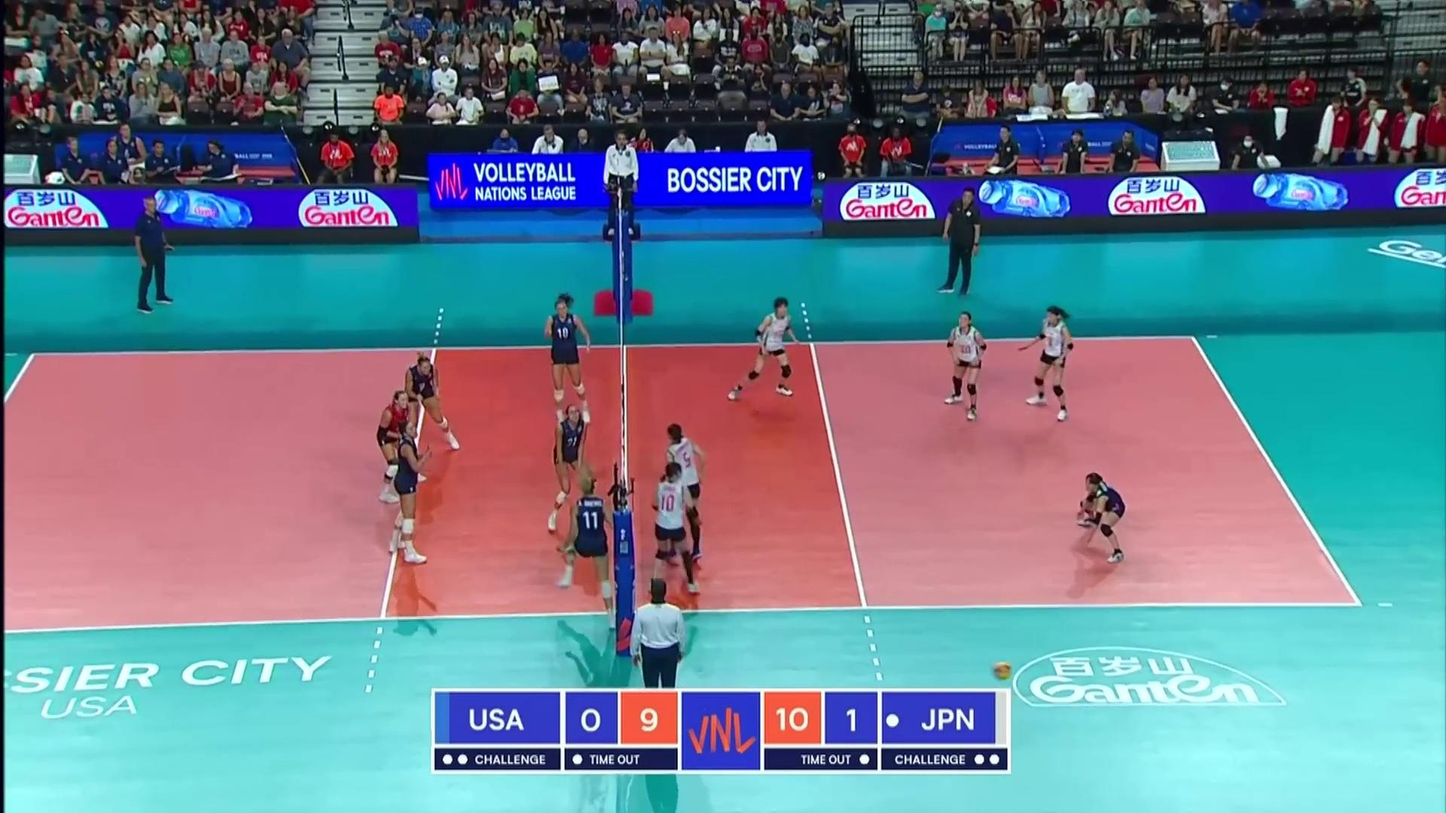player: (651, 424, 705, 568), (732, 301, 807, 402), (547, 404, 603, 536), (648, 462, 701, 599), (553, 480, 613, 601), (1018, 308, 1080, 422), (386, 419, 434, 563), (541, 294, 595, 420), (373, 389, 430, 503), (397, 352, 459, 450), (1074, 475, 1131, 567), (943, 312, 992, 414)
refree: (628, 575, 687, 746), (596, 131, 642, 239)
